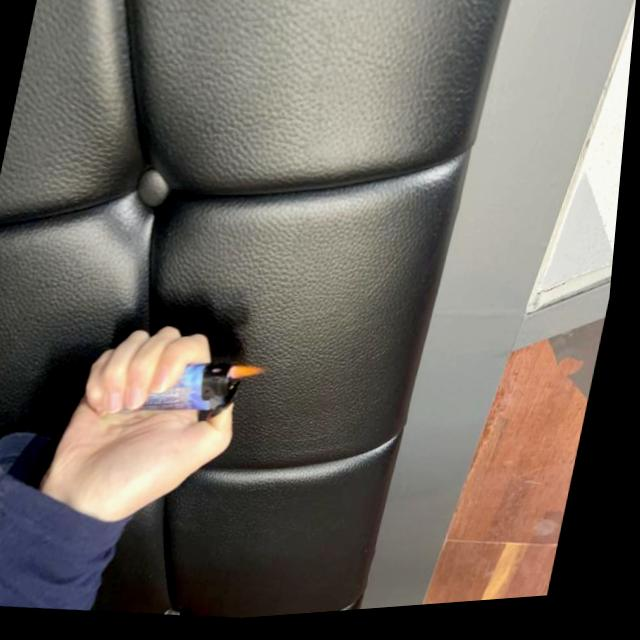Fire: (233, 365, 274, 386)
